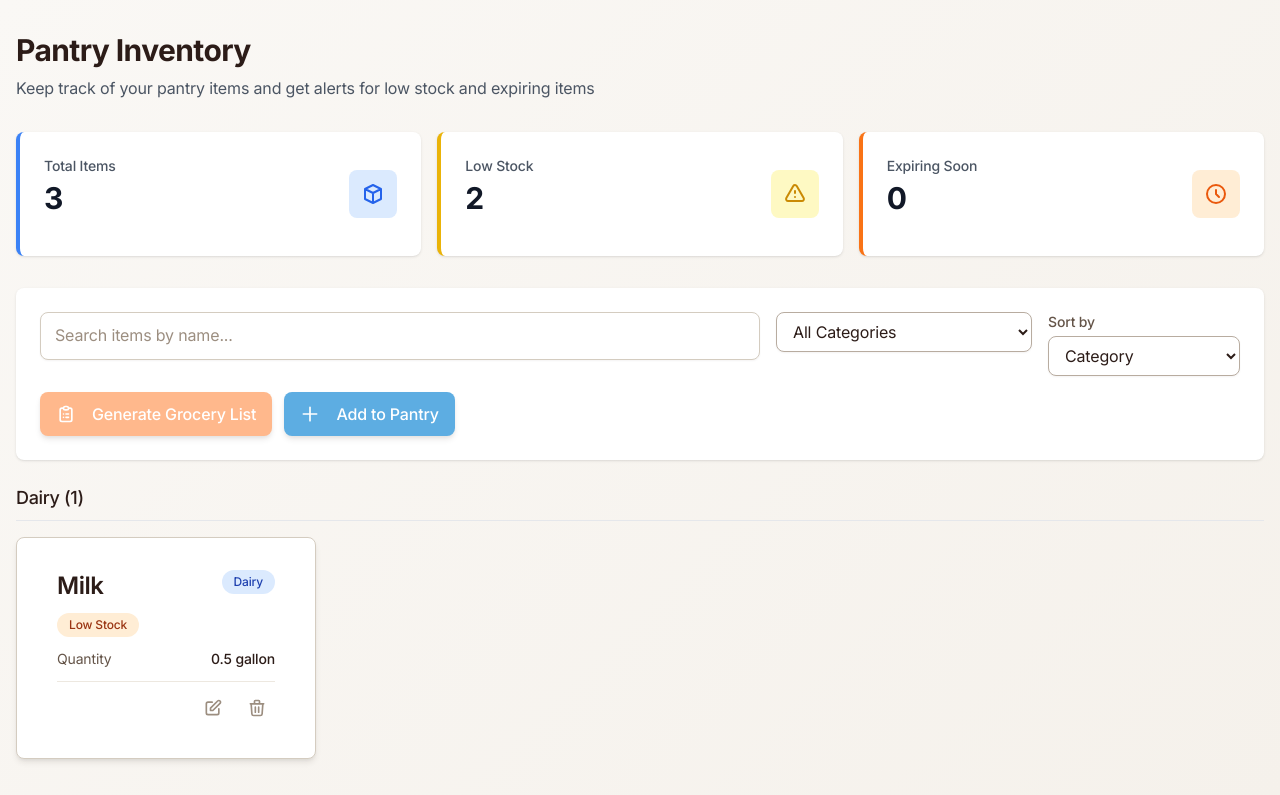
PantryPage - Generate Grocery List › should handle errors when creating grocery list
What coordinates should you click on to do the following:
click the button "Generate Grocery List"
I would click on:
 (156, 414)
Its box is 40,392 -> 272,436.
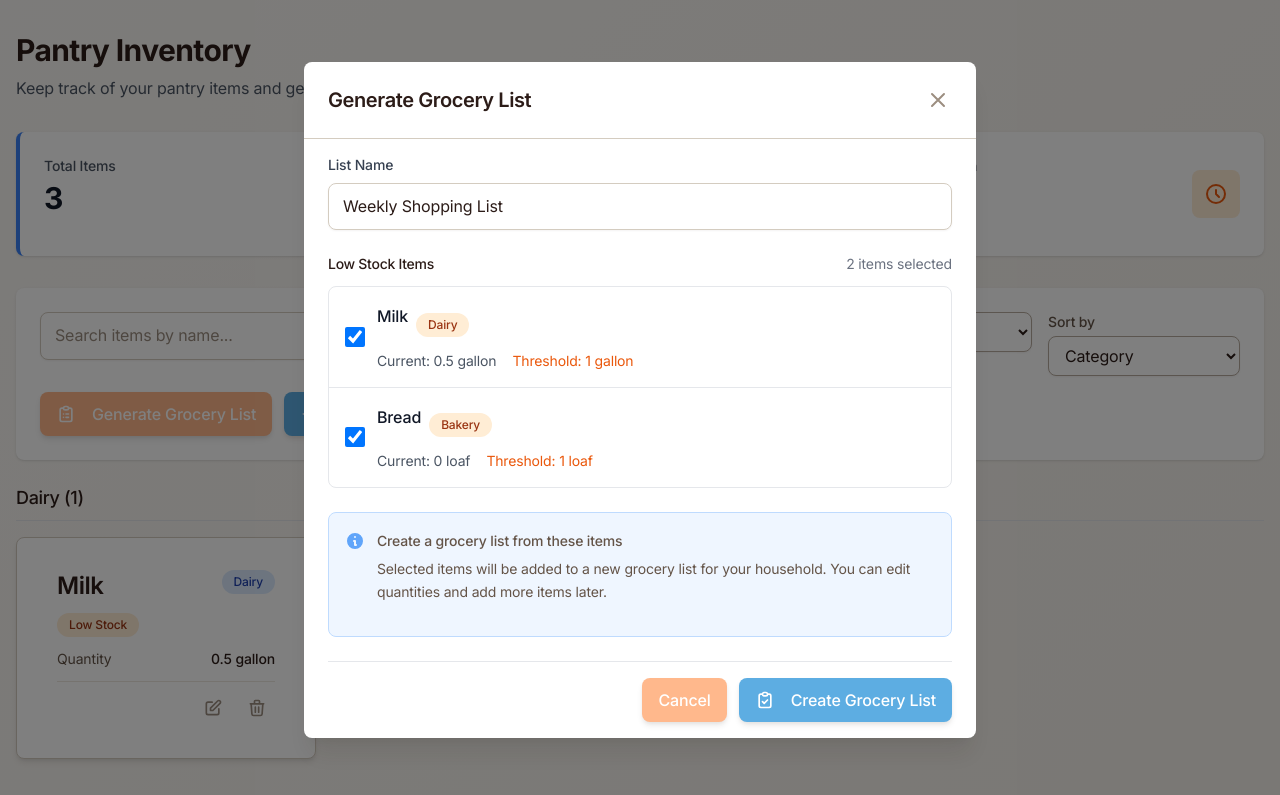
Expected: the button "Create Grocery List" is shown
What coordinates should you click on to do the following:
click the button "Create Grocery List"
I would click on:
 (845, 700)
Its box is 739,678 -> 952,722.
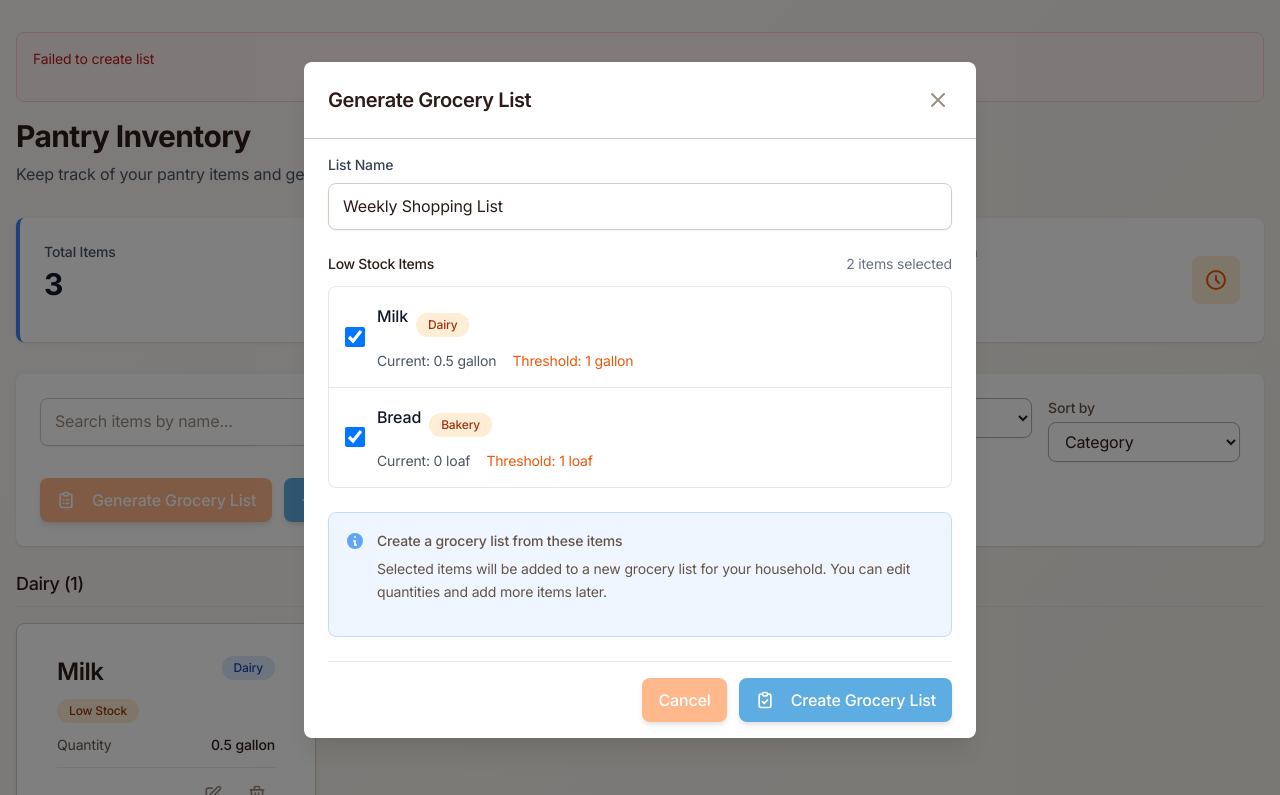
Expected: the text "Failed to create list" is shown, 33,50 -> 154,67
